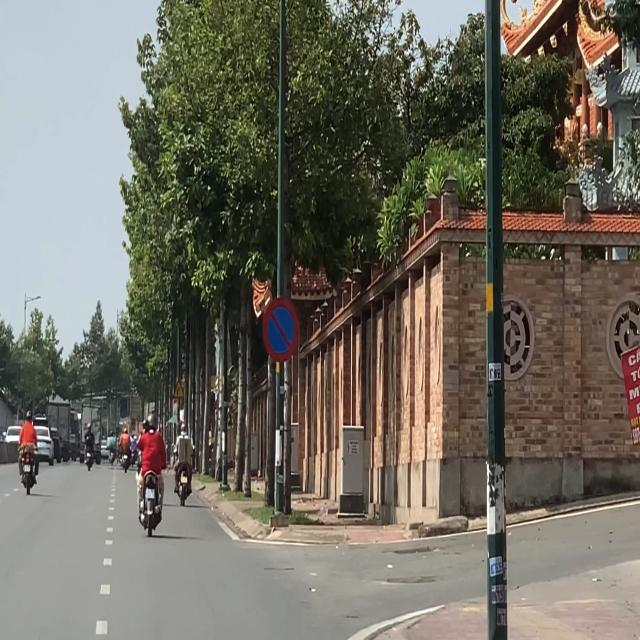Cam do: (262, 295, 300, 362)
Nguy hiem: (172, 379, 185, 400)
